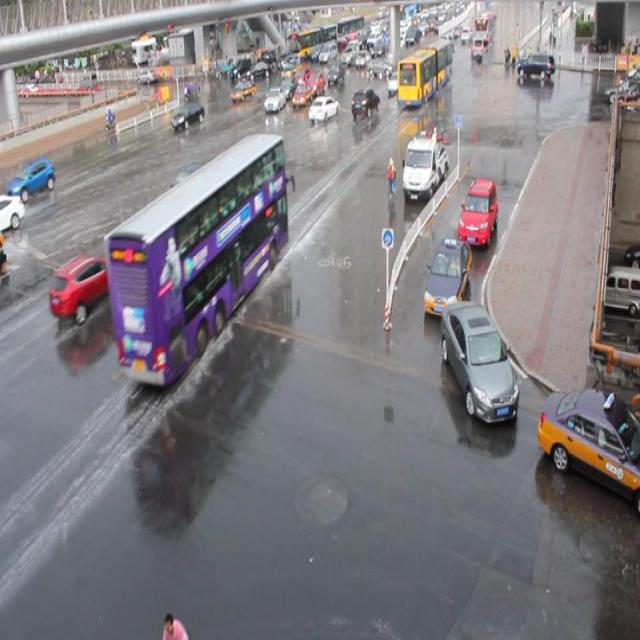bus: (401, 130, 448, 200)
car: (536, 386, 640, 510), (439, 299, 518, 422), (49, 254, 120, 321), (422, 235, 472, 316), (171, 161, 229, 221), (457, 176, 497, 246), (1, 155, 56, 202), (171, 99, 205, 130), (1, 192, 25, 233), (351, 86, 380, 118), (308, 95, 339, 123), (230, 76, 256, 104), (264, 86, 286, 112), (292, 81, 313, 107), (305, 70, 326, 95), (278, 75, 298, 99), (387, 70, 405, 92)
van: (102, 131, 289, 385), (397, 39, 452, 107)
